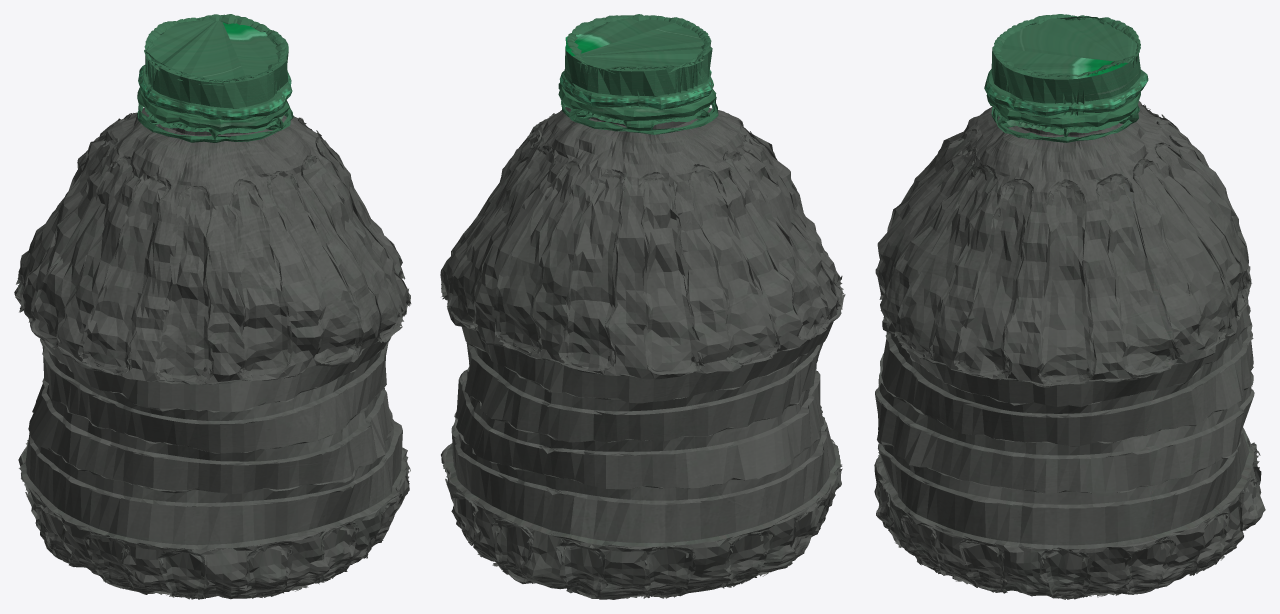
Rendered from crush_medium_0.obj.
3 renders of one model, left to right at view 1: azimuth 30°, elevation 25°; view 2: azimuth 150°, elevation 25°; view 3: azimuth 270°, elevation 25°, orthographic.
Visible parts, largest first — view 1: model; view 2: model; view 3: model.
Part boxes in pixels (x1=…): model: x1=14, y1=14, x2=411, y2=599; model: x1=440, y1=14, x2=845, y2=599; model: x1=874, y1=14, x2=1265, y2=599.
Bounding box in the file's own units: 0.1199 × 0.1637 × 0.1168.
Materials: 1 (1 with a texture image).
